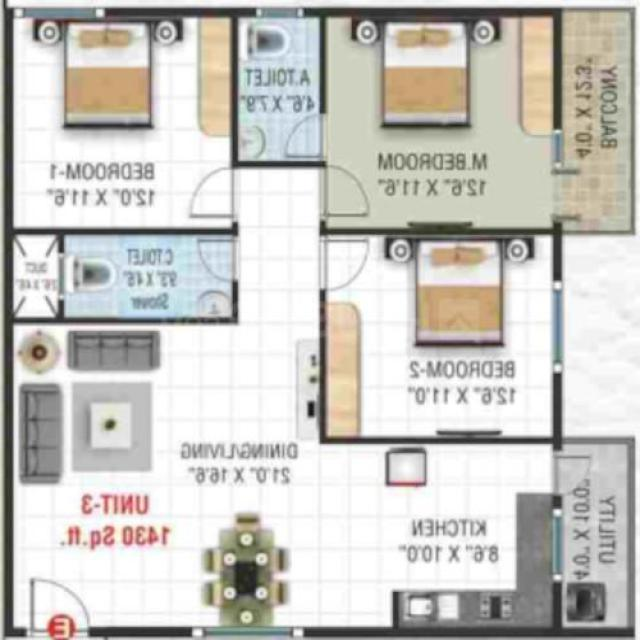Balcony-Sitout: (559, 5, 640, 238)
Bedroom: (317, 230, 566, 444), (4, 10, 236, 237)
Bedroom with Toilet: (316, 5, 563, 239)
Dining: (188, 509, 298, 627)
Enterance-Foyer: (19, 572, 95, 640)
Kitchen: (318, 438, 560, 640)
Living: (1, 324, 167, 491)
Toilet: (1, 226, 238, 318), (228, 6, 329, 171)
Utility: (554, 435, 635, 640)
